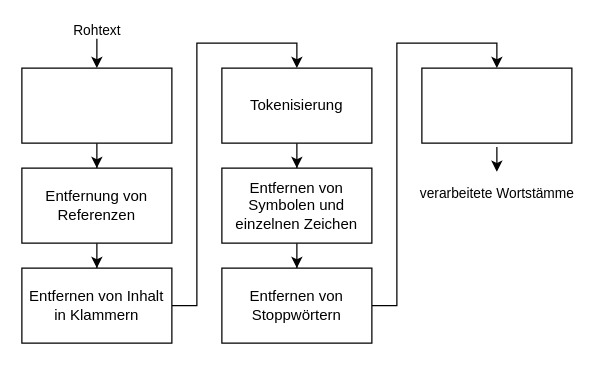
Some shapes in this 595 by 365 pixel diagram are drawn without their labels. The box of each missing label's shape, as (x1, y1, x2, y2) in pixels:
Stemming: (421, 67, 572, 143)
Umwandlung in Kleinbuchstaben: (21, 67, 172, 143)
